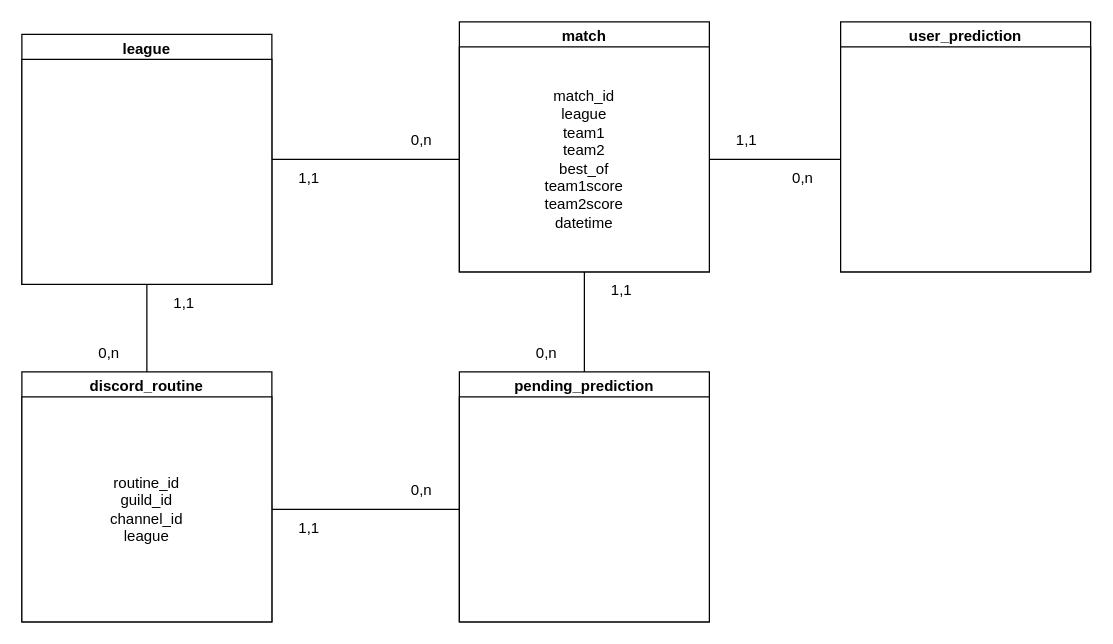
Some shapes in this 1113 by 644 pixel diagram are drawn without their labels. Here are the shapes that lost their labels. From the top down, the centre of each, then its label:
At (x=146, y=171): "id name year split".
At (x=965, y=159): "match_id user_id team1score team2score".
At (x=583, y=509): "match_id routine_id message_id datetime_limit".
